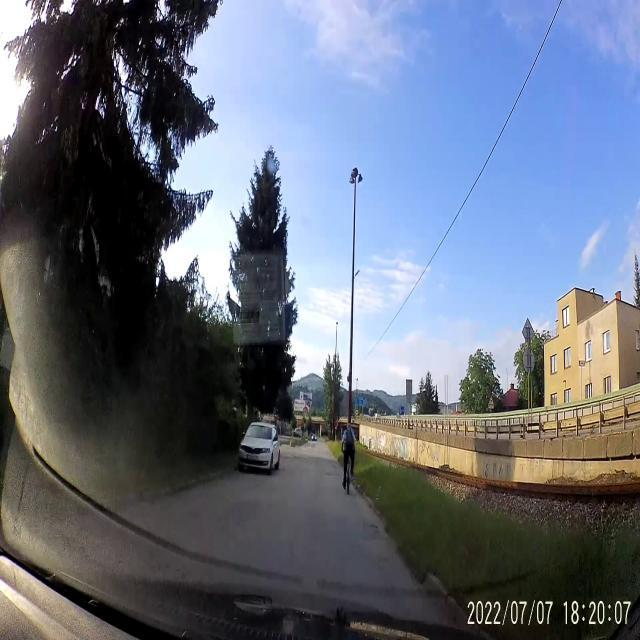Pothole: (368, 521, 379, 537)
